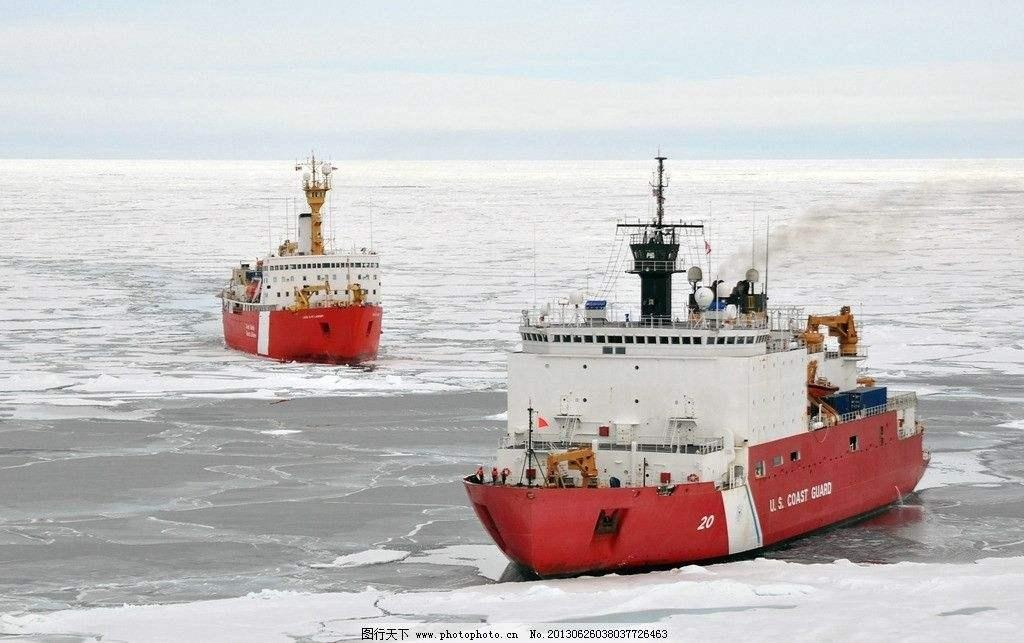warship: (459, 144, 927, 585), (213, 153, 410, 366)
